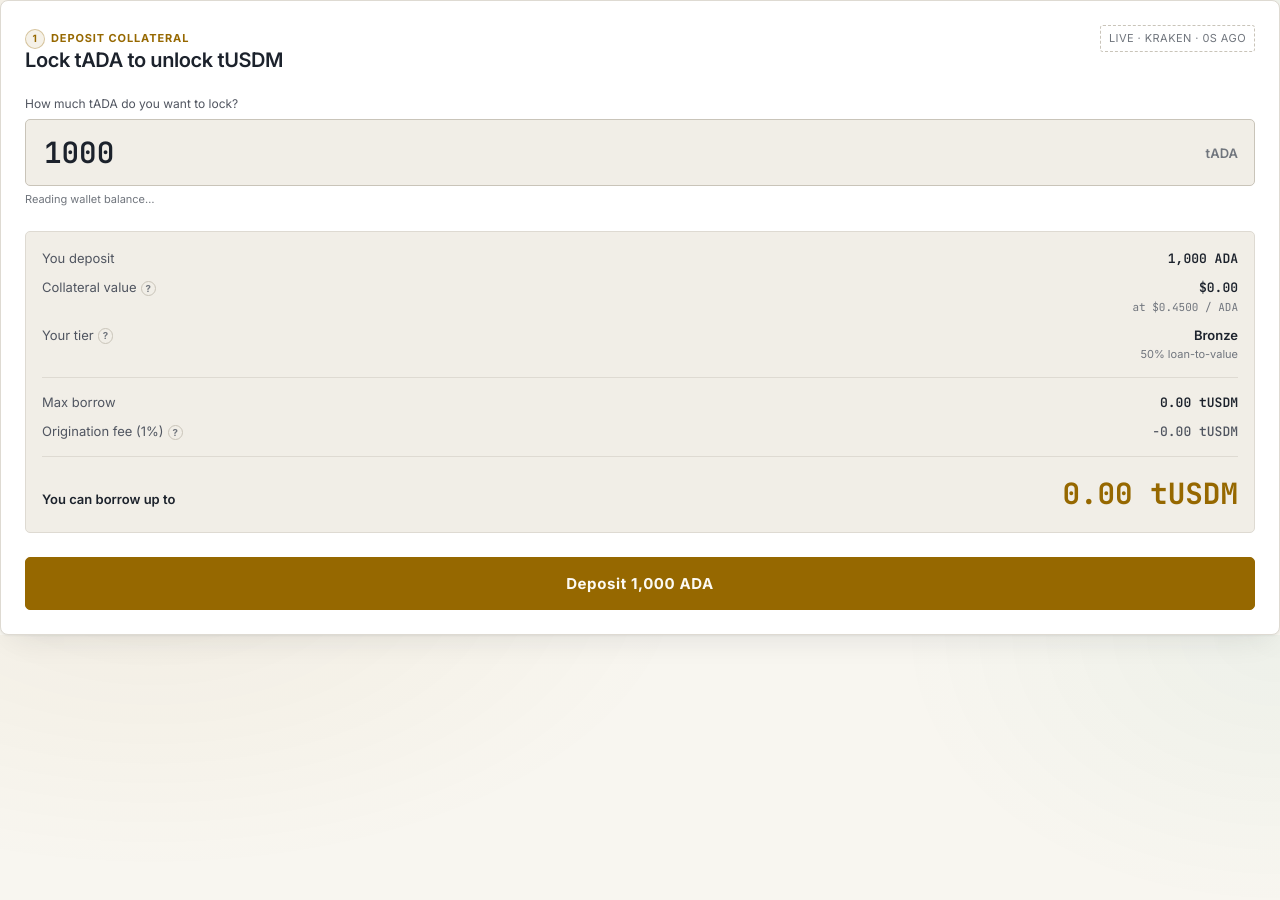
it: BorrowPanel deposit review modal › discards the transaction when Cancel is clicked
The image size is (1280, 900).
Click the button "Deposit 1,000 ADA". click: point(640, 584)
box: [25,557,1255,610]
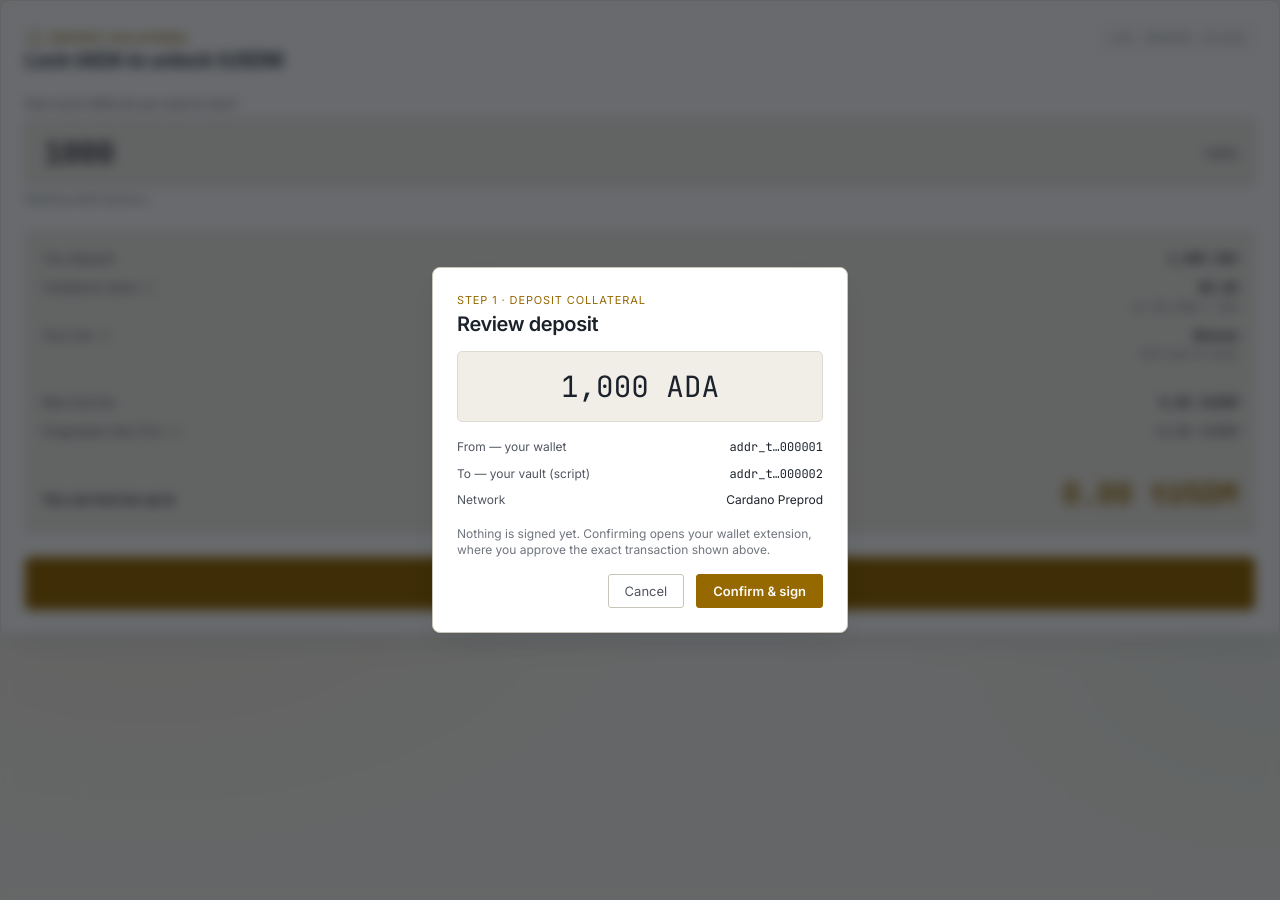
Click the button "Cancel". click: point(646, 591)
box: [608,574,684,608]
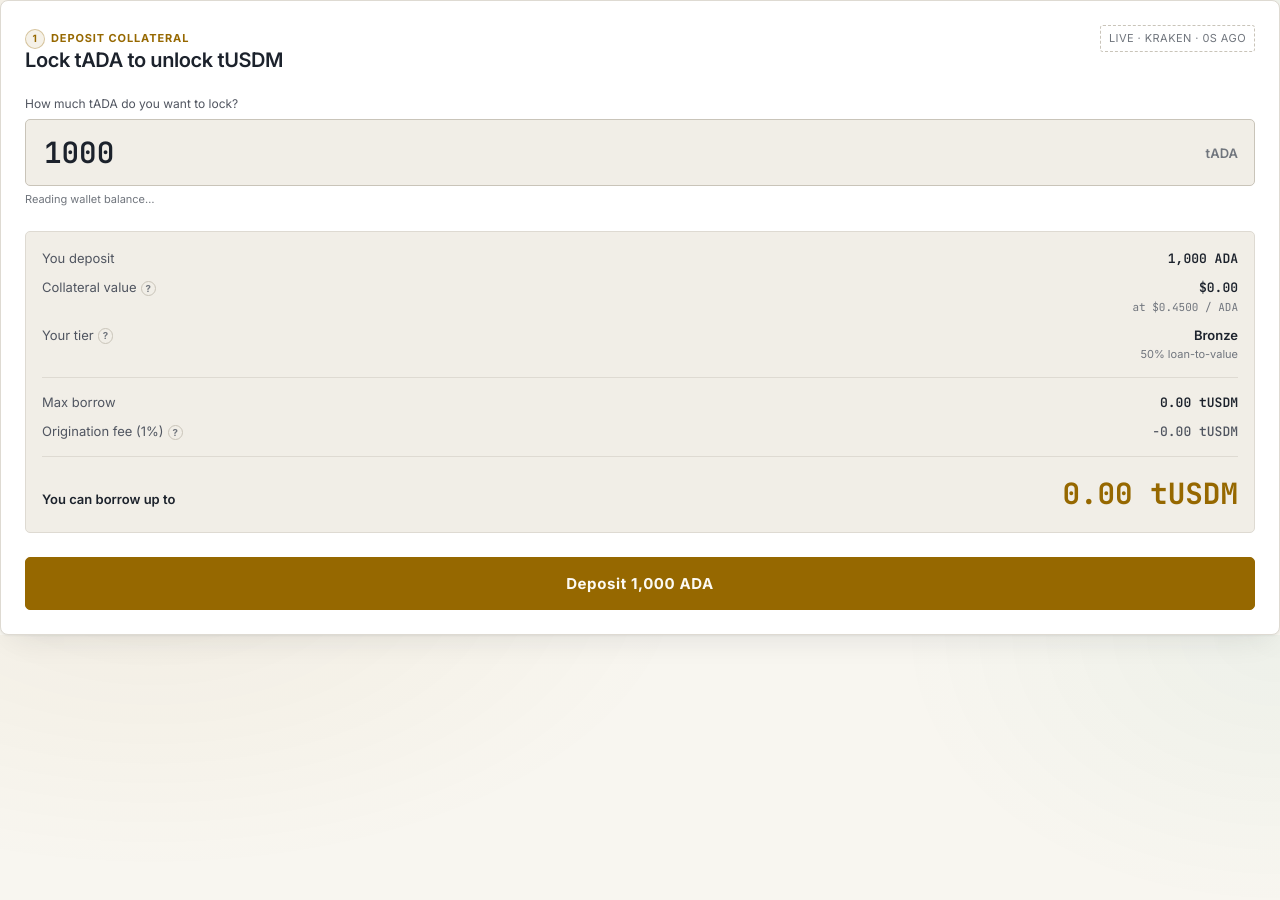
Expected: the dialog is gone
